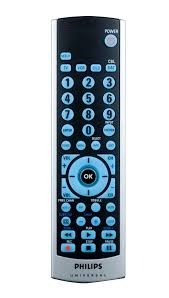remote control: (47, 12, 133, 284)
